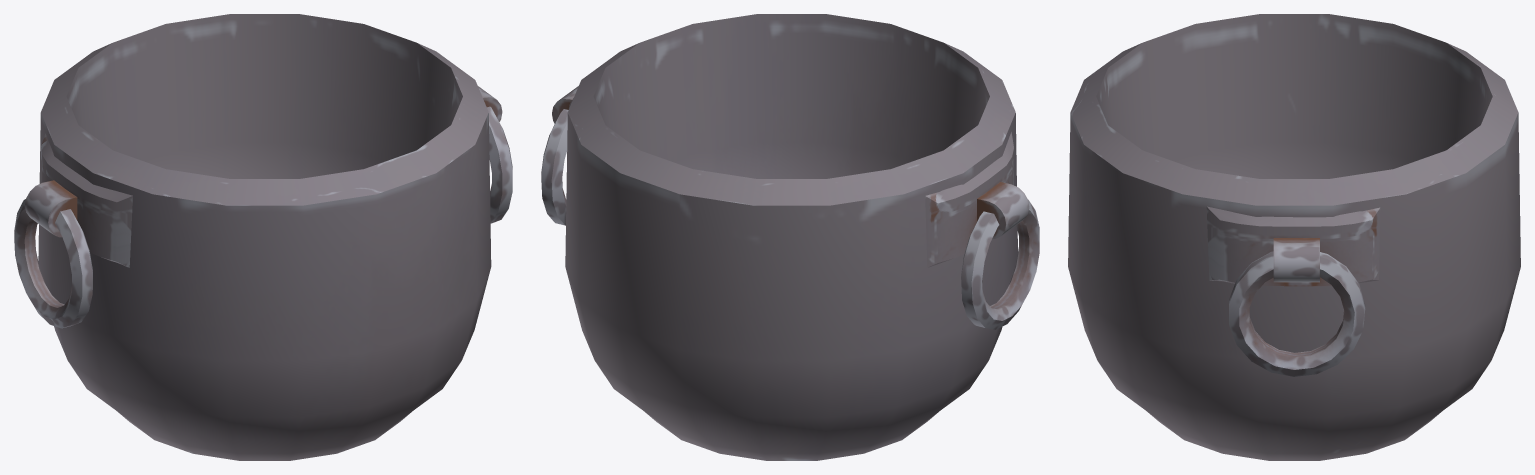
The model's file is Pot_2.fbx.
3 views of the same model, side by side, from view 1: azimuth 30°, elevation 25°; view 2: azimuth 150°, elevation 25°; view 3: azimuth 270°, elevation 25° (orthographic).
Visible parts, largest first — view 1: Pot_2; view 2: Pot_2; view 3: Pot_2.
Boxes of the visible parts, <box> form: Pot_2: <box>14,14,512,460</box>; Pot_2: <box>541,14,1039,460</box>; Pot_2: <box>1068,14,1520,460</box>.
Size of the model in its own units: 56.05 by 35.89 by 48.39.
